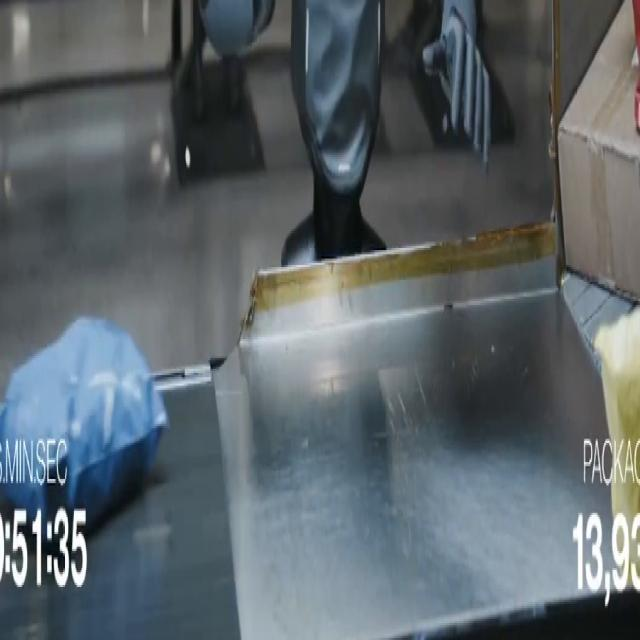package: (0, 318, 168, 529), (558, 0, 639, 298), (594, 310, 639, 574), (633, 0, 639, 57)
